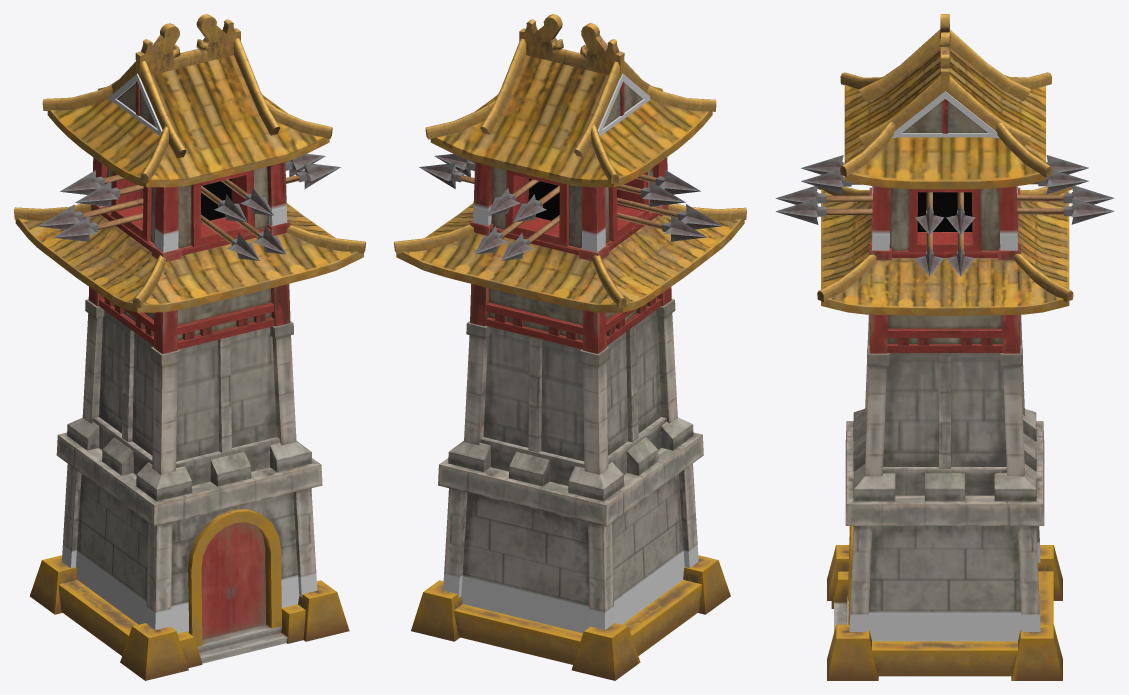
The model's file is 70-fusilladetower-fusillade_tower.glb.
3 renders of one model, left to right at view 1: azimuth 30°, elevation 25°; view 2: azimuth 150°, elevation 25°; view 3: azimuth 270°, elevation 25°, orthographic. The views are drawn at different scales.
Size of the model in its own units: 4.27 by 8.38 by 4.27.
Materials: 1 (1 with a texture image).
